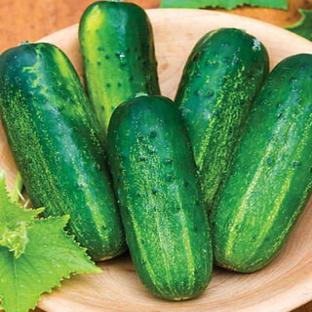Cucumber: (0, 44, 125, 259), (212, 55, 311, 272), (108, 96, 212, 300), (176, 29, 269, 209), (79, 1, 159, 133)
